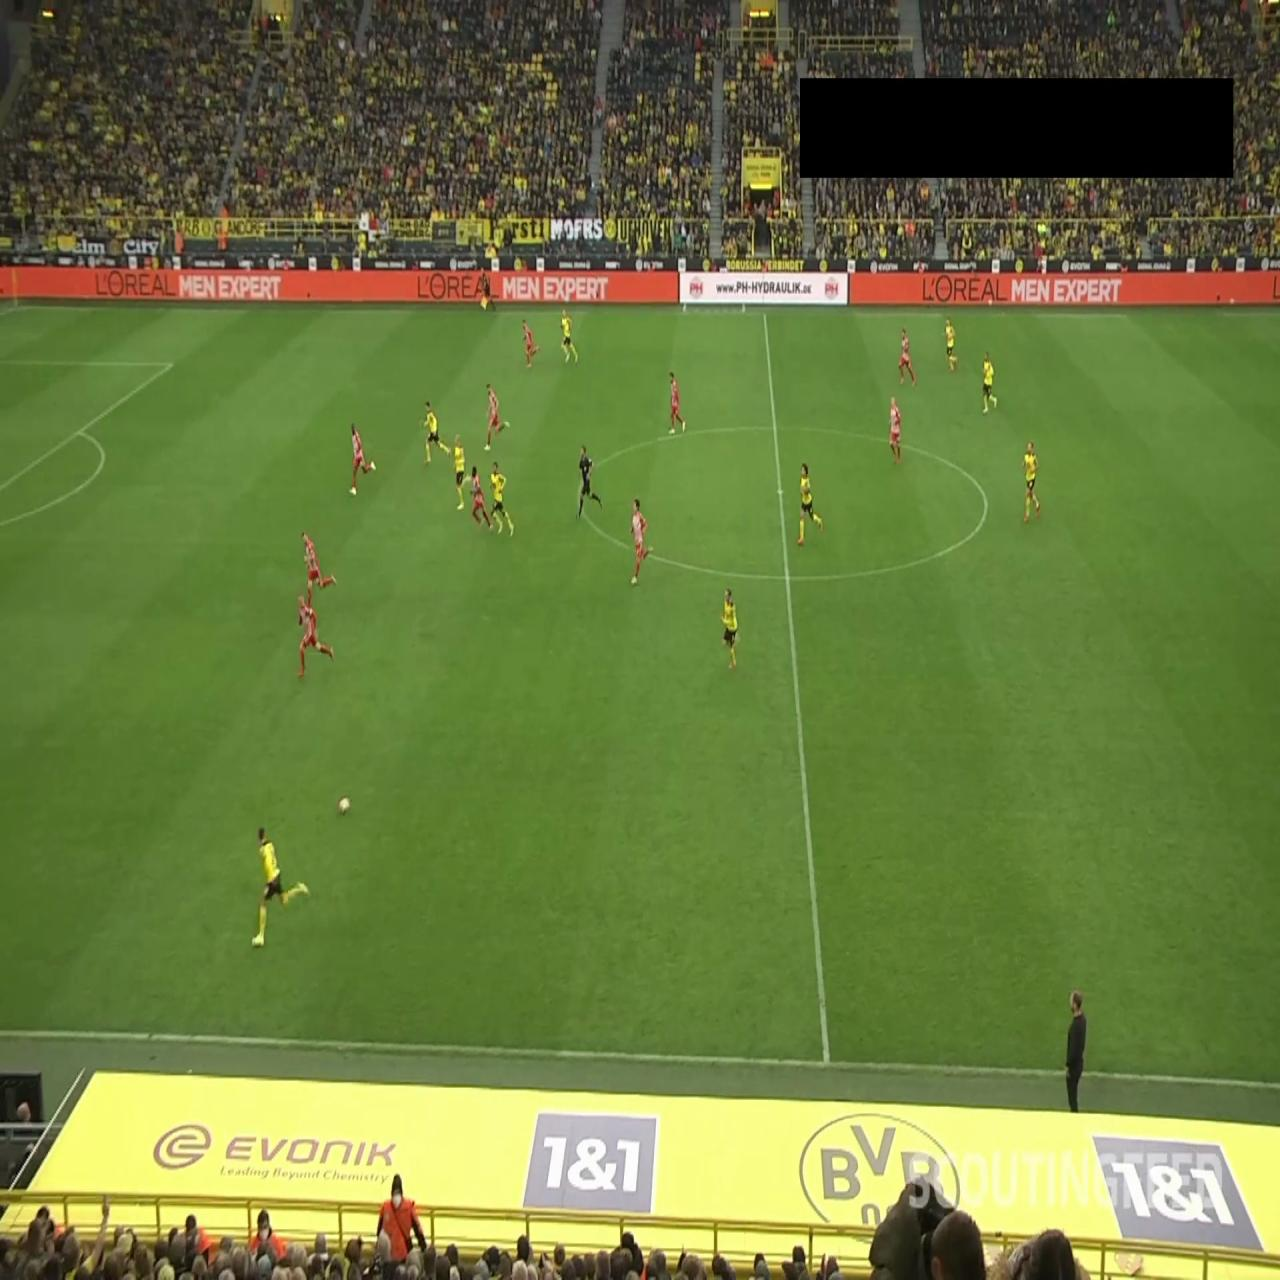ball: (338, 796, 351, 814)
player: (252, 825, 311, 947), (297, 585, 335, 678), (301, 532, 337, 612), (797, 461, 825, 548), (630, 498, 655, 585), (489, 460, 515, 537), (349, 422, 376, 495), (421, 400, 451, 464), (484, 382, 509, 452), (452, 434, 473, 511), (1022, 440, 1041, 522), (721, 588, 739, 670), (471, 465, 493, 531), (668, 371, 687, 435), (558, 309, 578, 364), (898, 327, 916, 386), (982, 351, 998, 414), (522, 318, 540, 368), (889, 396, 902, 463), (945, 318, 957, 372)
referee: (577, 443, 604, 519), (478, 264, 497, 314)
